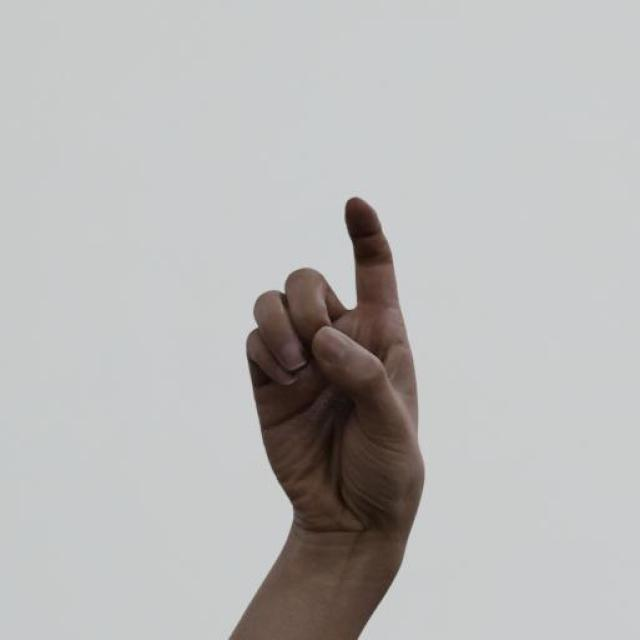X: (226, 195, 438, 627)
